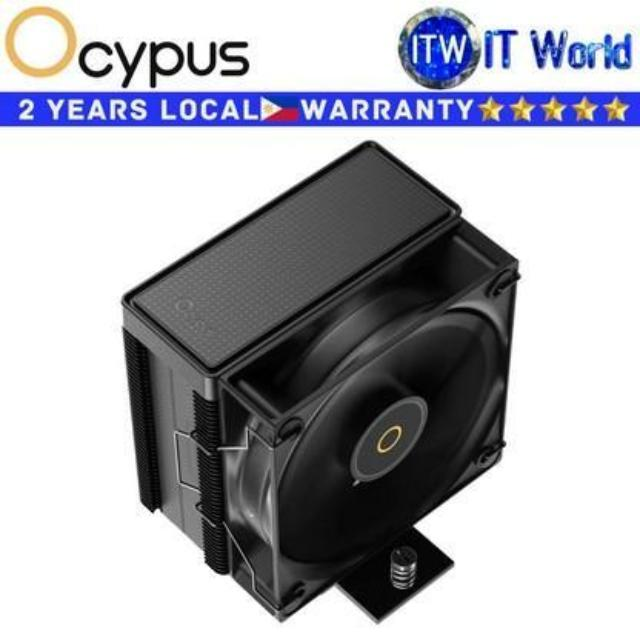CPU_Fan: (115, 138, 520, 626)
